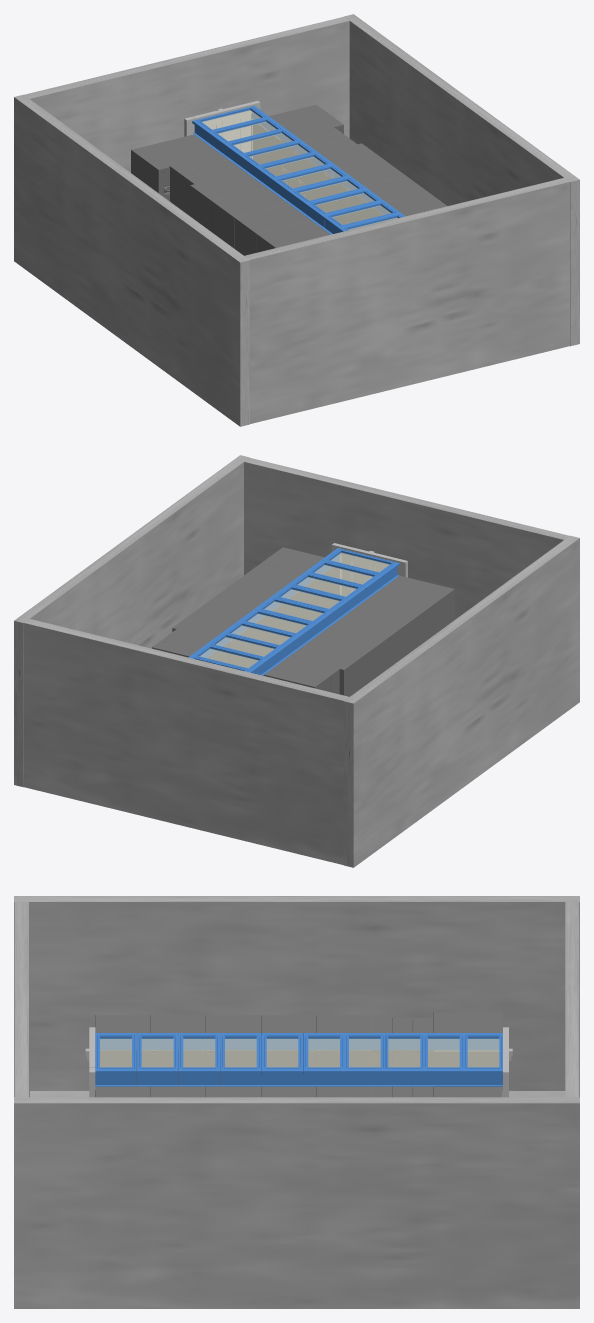
The model's file is level4.glb.
3 renders of one model, top to bottom at view 1: azimuth 30°, elevation 25°; view 2: azimuth 150°, elevation 25°; view 3: azimuth 270°, elevation 25°, orthographic. The views are drawn at different scales.
Parts seen in each view (by area): view 1: 1-1-1jianzhu, jigui.008, jigui.007, jigui.010, jigui.009, jigui.011, jigui.014, jigui.015, men4, boligaiban.004, boligaiban.002, boligaiban.003 (+14 smaller); view 2: 1-1-1jianzhu, jigui.009, jigui.010, jigui.011, jigui.012, jigui.013, jigui.035, jigui.015, jigui.016, jigui.001, jigui.014, men3 (+12 smaller); view 3: 1-1-1jianzhu, jigui.008, boligaiban.004, boligaiban.001, boligaiban.002, boligaiban.003, boligaiban.005, boligaiban.010, boligaiban.006, boligaiban.008, boligaiban.007, boligaiban.009 (+15 smaller).
Part boxes in pixels (left/top/right/bottom): 1-1-1jianzhu: left=14, top=14, right=579, bottom=426; jigui.008: left=131, top=134, right=219, bottom=201; jigui.007: left=253, top=104, right=343, bottom=175; jigui.010: left=212, top=188, right=288, bottom=248; jigui.009: left=190, top=172, right=266, bottom=231; jigui.011: left=234, top=204, right=310, bottom=255; jigui.014: left=305, top=143, right=383, bottom=212; jigui.015: left=327, top=159, right=405, bottom=224; men4: left=184, top=101, right=260, bottom=158; boligaiban.004: left=272, top=164, right=350, bottom=203; boligaiban.002: left=305, top=188, right=383, bottom=228; boligaiban.003: left=289, top=176, right=367, bottom=215; 1-1-1jianzhu: left=14, top=455, right=579, bottom=867; jigui.009: left=289, top=640, right=365, bottom=696; jigui.010: left=311, top=624, right=388, bottom=684; jigui.011: left=333, top=608, right=410, bottom=668; jigui.012: left=356, top=592, right=432, bottom=652; jigui.013: left=378, top=576, right=454, bottom=635; jigui.035: left=239, top=563, right=317, bottom=632; jigui.015: left=194, top=595, right=273, bottom=664; jigui.016: left=217, top=579, right=295, bottom=644; jigui.001: left=261, top=547, right=339, bottom=616; jigui.014: left=172, top=612, right=251, bottom=667; men3: left=331, top=543, right=407, bottom=596; 1-1-1jianzhu: left=14, top=896, right=579, bottom=1308; jigui.008: left=433, top=1012, right=502, bottom=1086; boligaiban.004: left=261, top=1033, right=303, bottom=1086; boligaiban.001: left=137, top=1033, right=178, bottom=1086; boligaiban.002: left=178, top=1033, right=219, bottom=1086; boligaiban.003: left=220, top=1033, right=261, bottom=1086; boligaiban.005: left=303, top=1033, right=344, bottom=1086; boligaiban.010: left=95, top=1033, right=136, bottom=1086; boligaiban.006: left=344, top=1033, right=385, bottom=1086; boligaiban.008: left=423, top=1033, right=464, bottom=1086; boligaiban.007: left=383, top=1033, right=424, bottom=1086; boligaiban.009: left=462, top=1033, right=502, bottom=1086.
Size of the model in its own units: 7.09 by 3.28 by 8.18.
5 materials, 1 textured.
